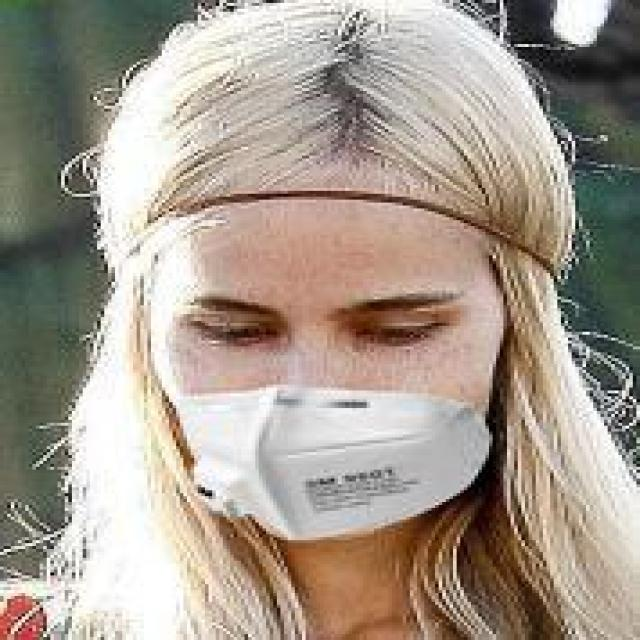mask: (112, 114, 568, 560)
